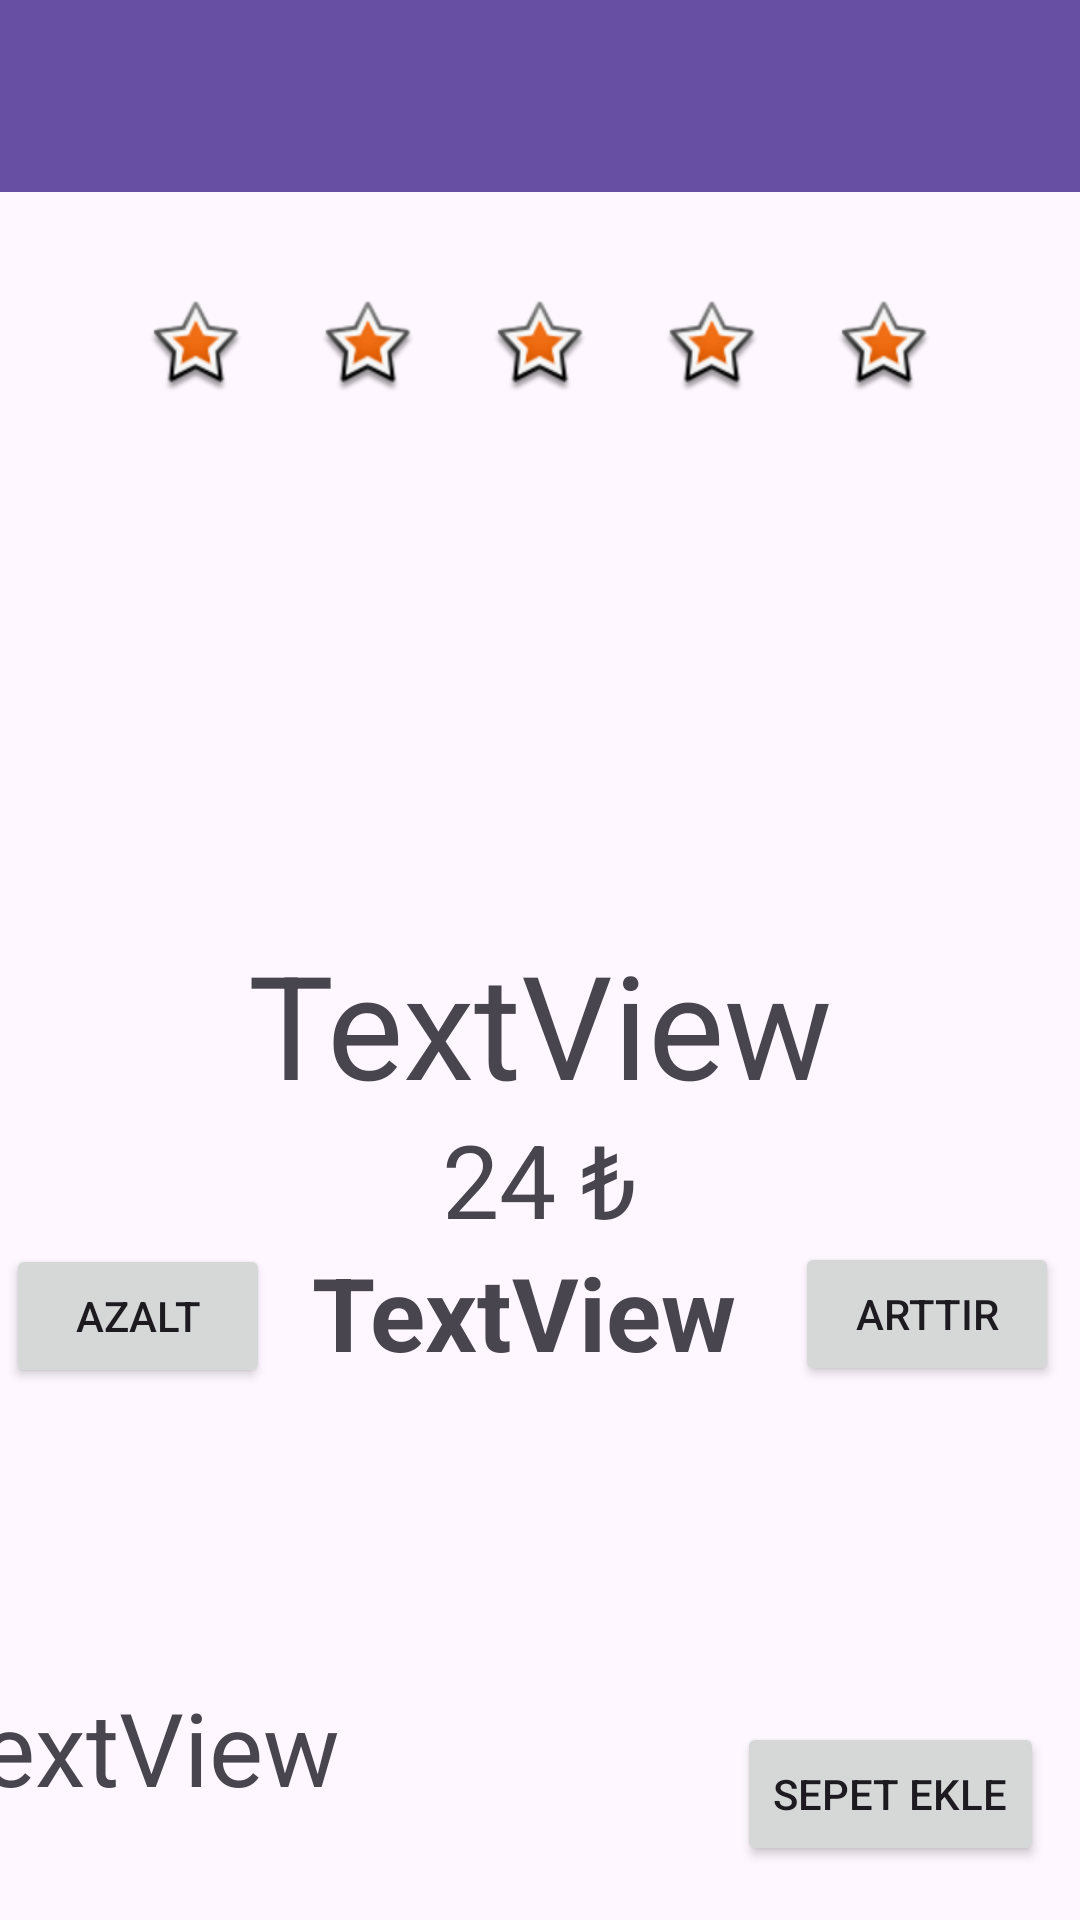

Locate icon controls on the screen. Image size 1080x1920, boxes as (x1, y1, x2, y2).
star on: (153, 301, 239, 388), (325, 301, 411, 388), (497, 301, 583, 388), (669, 301, 755, 388), (841, 301, 927, 388)
